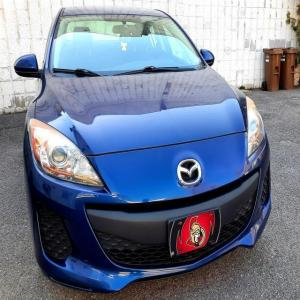Plate: (169, 210, 222, 257)
